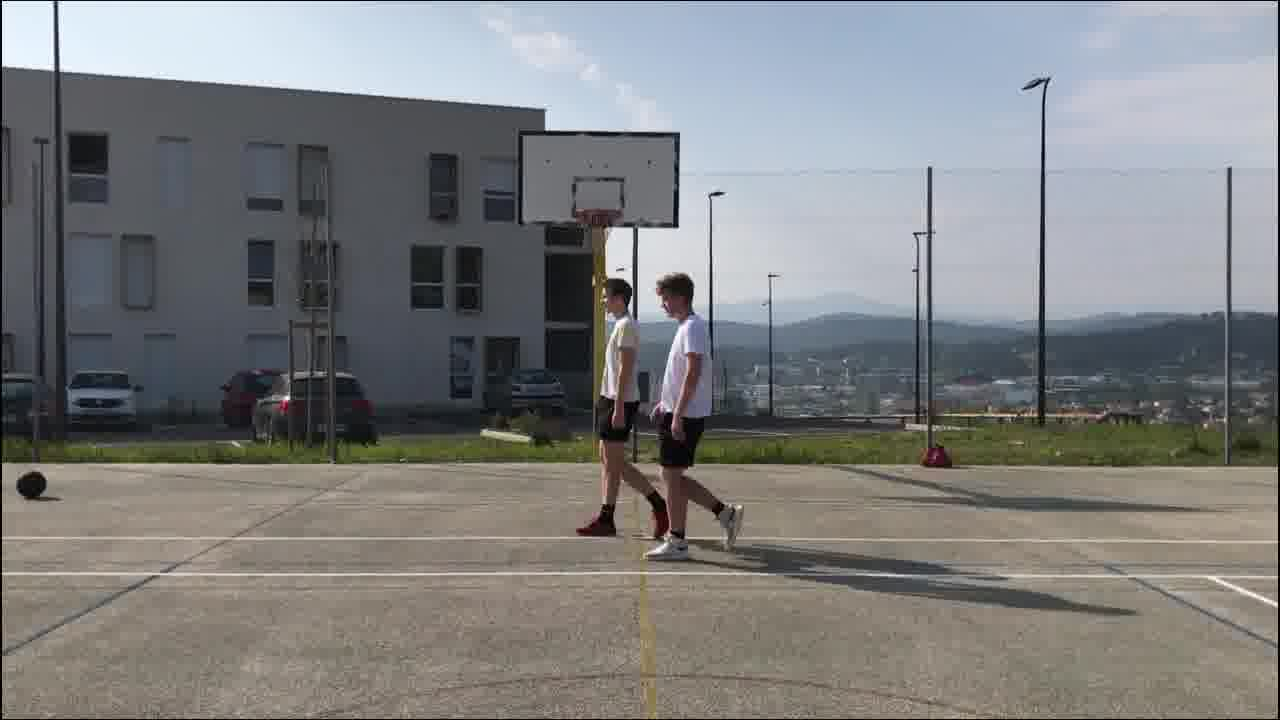jugador: (555, 267, 693, 554)
